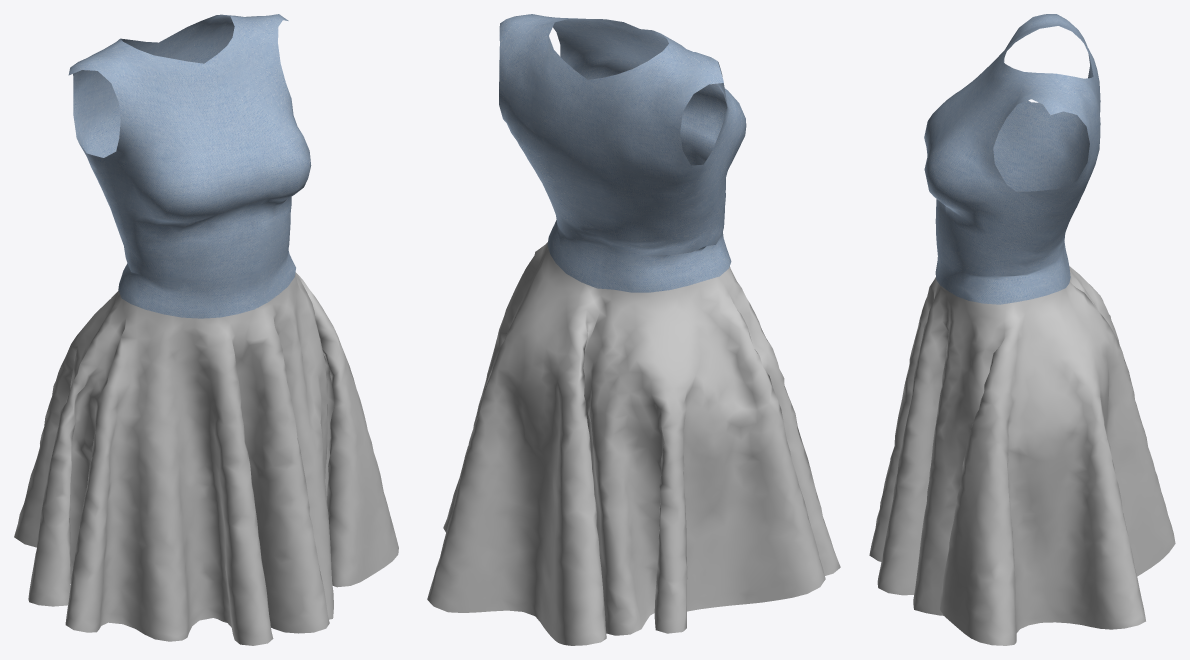
Rendered from dress.fbx.
The picture shows the model from 3 angles, left to right: view 1: azimuth 30°, elevation 25°; view 2: azimuth 150°, elevation 25°; view 3: azimuth 270°, elevation 25°; orthographic projection. The views are drawn at different scales.
Visible parts, largest first — view 1: dress; view 2: dress; view 3: dress.
Boxes of the visible parts, x1,y1,x2,y2 form: dress: [14, 14, 398, 645]; dress: [427, 14, 840, 645]; dress: [869, 14, 1175, 645].
Bounding box in the file's own units: 552 × 813 × 427.
